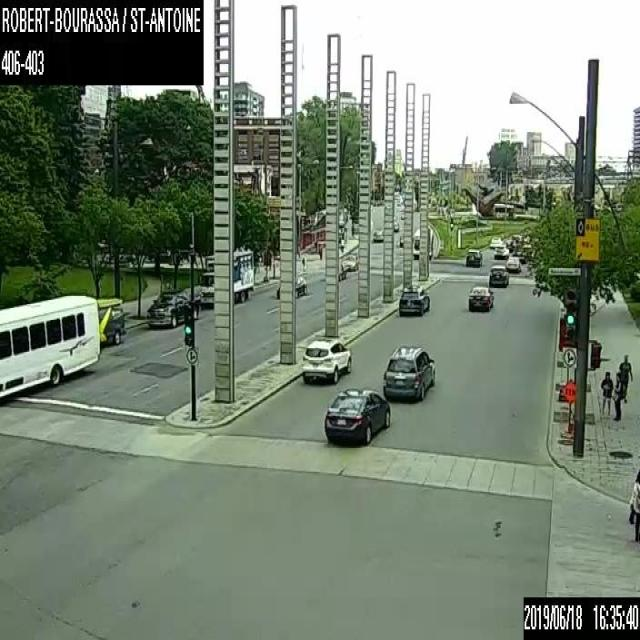bus: (0, 293, 100, 403), (412, 226, 433, 258), (472, 202, 514, 216), (498, 199, 524, 213)
construction: (559, 379, 575, 442)
pedestrian: (627, 469, 639, 542), (618, 353, 632, 401), (610, 372, 622, 420), (600, 371, 612, 416), (339, 235, 344, 253), (301, 254, 304, 270)
vehicle: (323, 386, 390, 446), (382, 344, 436, 401), (200, 247, 252, 306), (300, 334, 351, 382), (145, 287, 200, 328), (96, 296, 126, 344), (397, 282, 429, 314), (276, 276, 307, 297), (468, 286, 493, 310), (488, 264, 508, 286), (465, 247, 482, 265), (342, 253, 357, 269), (493, 243, 508, 258), (505, 256, 520, 271), (512, 250, 524, 263), (509, 233, 521, 245), (372, 228, 383, 241), (505, 238, 515, 251), (338, 263, 346, 279), (393, 219, 398, 231), (399, 234, 403, 245), (393, 211, 396, 220), (400, 212, 404, 218)
